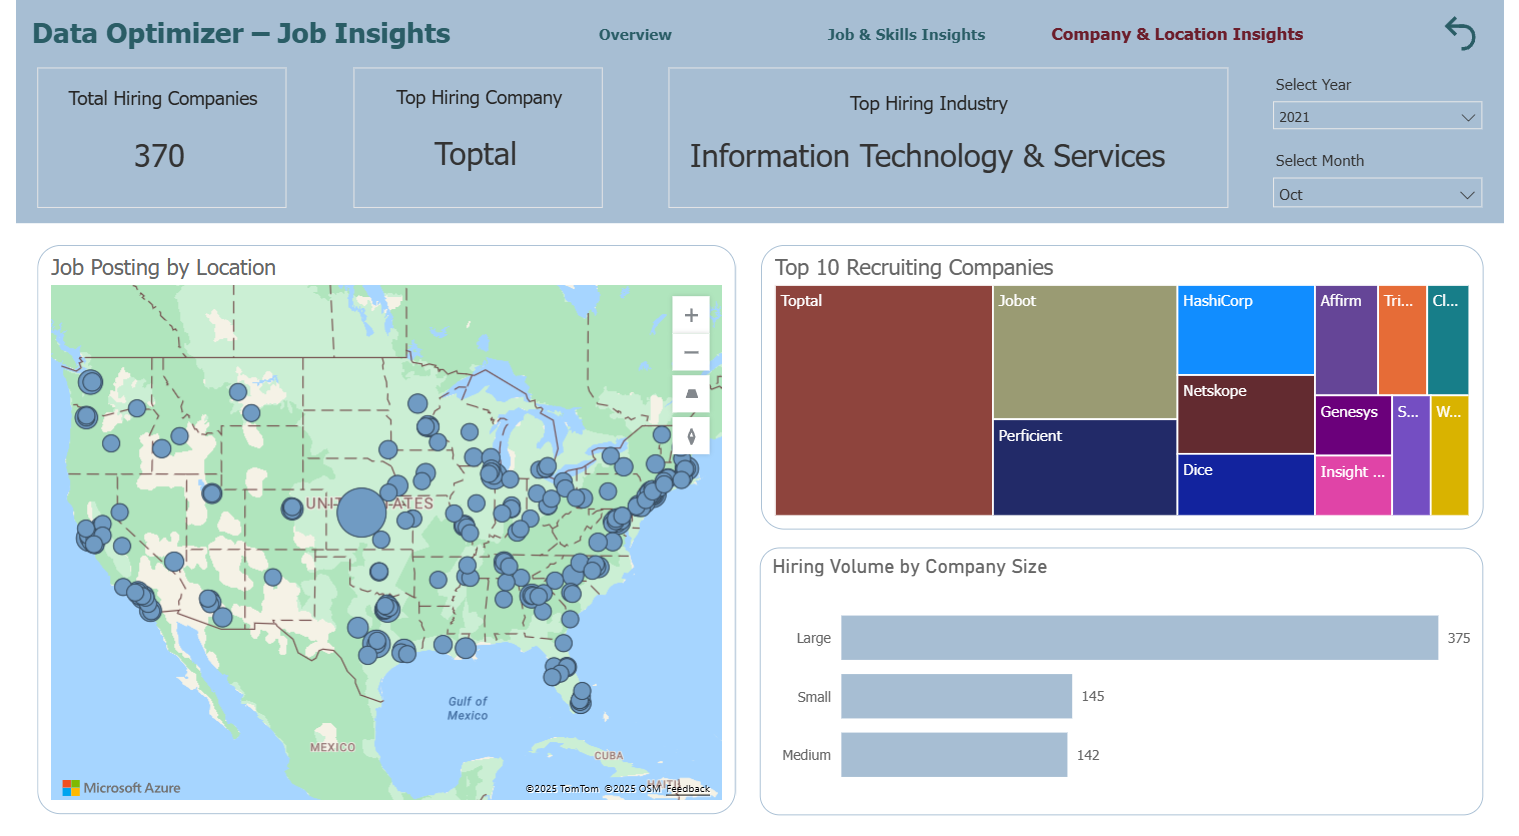

The dashboard page shown, as its layout file describes it:
{"tool":"powerbi","page":{"name":"Company & Location Insights","canvas":[1280,720],"ordinal":2},"visuals":[{"type":"shape","box":[0,0,1280,192],"z":0},{"type":"shape","box":[289.8,57.9,214.7,120.6],"z":0,"group":"g2"},{"type":"shape","box":[561.3,58,481.4,120.6],"z":0,"group":"g3"},{"type":"shape","box":[18.3,58.1,214.7,120.6],"z":0,"group":"g4"},{"type":"textbox","box":[8.6,8.6,392.5,51.4],"z":1000},{"type":"textbox","box":[303.8,68.2,188.2,35],"z":1000,"group":"g2"},{"type":"textbox","box":[32.3,69.6,188.2,35],"z":1000,"group":"g4"},{"type":"textbox","box":[558.9,73.7,452.4,31.4],"z":1000,"group":"g3"},{"type":"slicer","fields":{"Values":["DimDate.Year"]},"box":[1071.3,59.1,200.3,54.3],"z":2000},{"type":"card","fields":{"Values":["_measure.Top Hiring Company"]},"box":[301.4,106.8,187,51.9],"z":2000,"group":"g2"},{"type":"card","fields":{"Values":["_measure.Total Hiring Companies"]},"box":[29.9,108.2,187,51.9],"z":2000,"group":"g4"},{"type":"card","fields":{"Values":["_measure.Top Hiring Industry"]},"box":[556.5,108.7,454.8,51.9],"z":2000,"group":"g3"},{"type":"slicer","fields":{"Values":["DimDate.Month Name"]},"box":[1071.3,124.3,200.3,54.3],"z":3000},{"type":"group","id":"g1","title":"Group 2","box":[18.3,58.1,214.7,120.6],"z":4000},{"type":"group","id":"g2","title":"Group 1","box":[289.8,57.9,214.7,120.6],"z":5000},{"type":"group","id":"g3","title":"Group 1","box":[556.5,58,486.2,120.6],"z":6000},{"type":"azureMap","title":"Job Posting by Location","fields":{"Category":["JobPosting.Job Location"],"Size":["_measure.Total Job Posting"]},"box":[18.1,211.1,600.8,489.8],"z":7000},{"type":"clusteredBarChart","title":"Hiring Volume by Company Size","fields":{"Category":["JobPosting.Company Size Group"],"Y":["_measure.Total Job Posting"]},"box":[639.4,470.5,622.5,230.4],"z":8000},{"type":"treemap","title":"Top 10 Recruiting Companies","fields":{"Group":["JobPosting.Company Name"],"Values":["_measure.Total Job Posting"]},"box":[640.6,211.1,621.3,244.9],"z":9000},{"type":"pageNavigator","box":[421,15.7,691.3,25.3],"z":10000},{"type":"actionButton","box":[1222.1,8.4,45.8,39.8],"z":11000},{"type":"group","id":"g4","title":"Group 1","box":[18.3,58.1,214.7,120.6],"z":11002,"group":"g1"}]}

Visuals, with their boxes in screenshot pixels (x1, y1, x2, y2), scaled from the page's 1280x720 canvas onto the 1519x836 screenshot:
shape: (0,0,1518,223)
shape: (344,67,599,207)
shape: (666,67,1237,207)
shape: (22,67,277,207)
textbox: (10,10,476,70)
textbox: (361,79,584,120)
textbox: (38,81,262,121)
textbox: (663,86,1200,122)
slicer - DimDate.Year: (1271,69,1509,132)
card - _measure.Top Hiring Company: (358,124,580,184)
card - _measure.Total Hiring Companies: (35,126,257,186)
card - _measure.Top Hiring Industry: (660,126,1200,186)
slicer - DimDate.Month Name: (1271,144,1509,207)
"Group 2" group: (22,67,277,207)
"Group 1" group: (344,67,599,207)
"Group 1" group: (660,67,1237,207)
"Job Posting by Location" azureMap: (21,245,734,814)
"Hiring Volume by Company Size" clusteredBarChart: (759,546,1498,814)
"Top 10 Recruiting Companies" treemap: (760,245,1498,529)
pageNavigator: (500,18,1320,48)
actionButton: (1450,10,1505,56)
"Group 1" group: (22,67,277,207)
